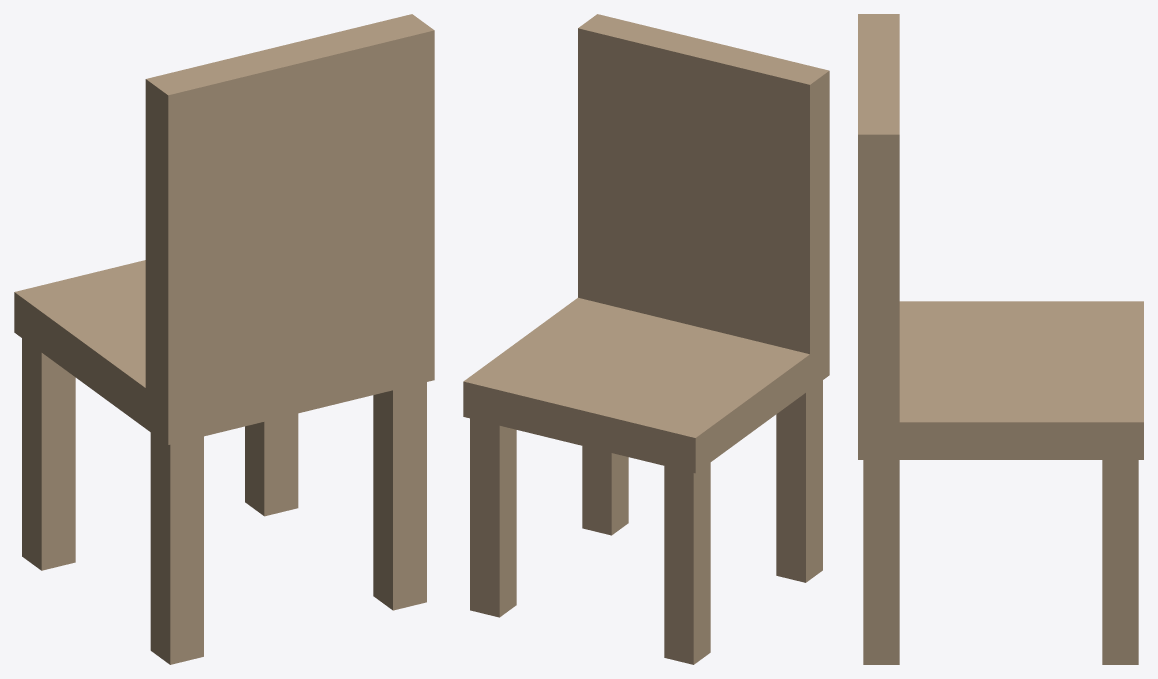
The model's file is proxy-chair.glb.
The picture shows the model from 3 angles, left to right: view 1: azimuth 30°, elevation 25°; view 2: azimuth 150°, elevation 25°; view 3: azimuth 270°, elevation 25°; orthographic projection. The views are drawn at different scales.
Size of the model in its own units: 0.55 by 1.13 by 0.55.
